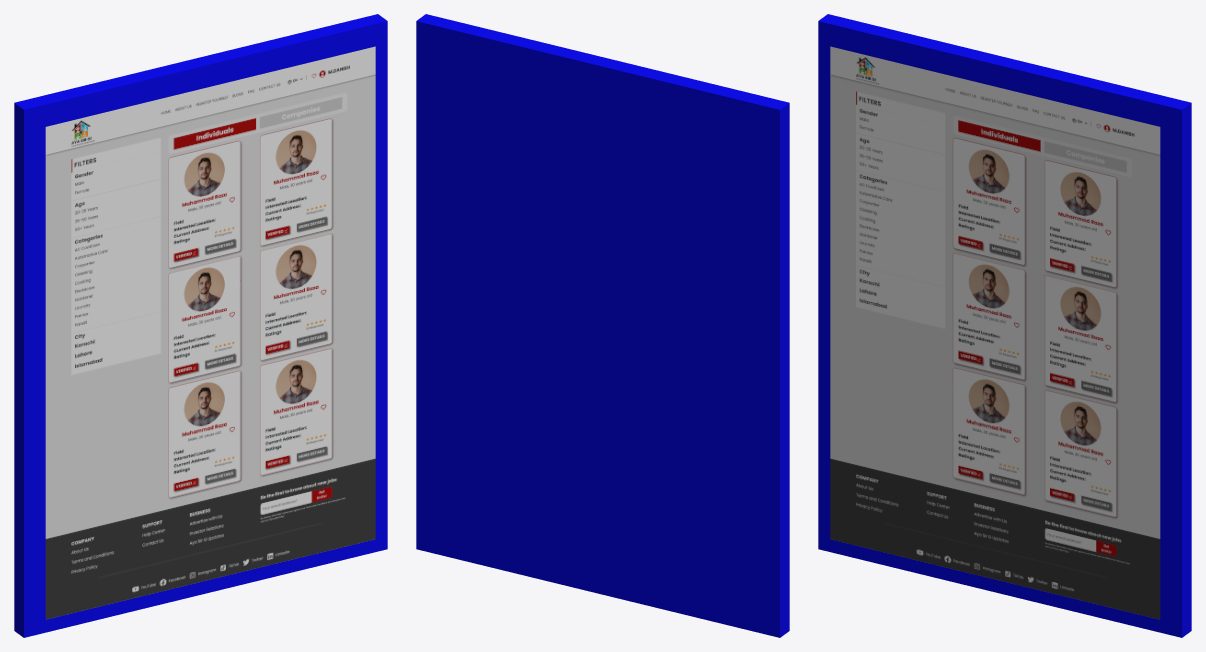
The picture shows the model from 3 angles, left to right: view 1: azimuth 30°, elevation 25°; view 2: azimuth 150°, elevation 25°; view 3: azimuth 330°, elevation 25°; orthographic projection.
Visible parts, largest first — view 1: PhotoPlane, PhotoBorder; view 2: PhotoBorder; view 3: PhotoPlane, PhotoBorder.
Part boxes in pixels (x1,y1,x2,y2): PhotoPlane: (45,46,375,619); PhotoBorder: (14,14,387,637); PhotoBorder: (416,14,789,637); PhotoPlane: (830,46,1160,619); PhotoBorder: (818,14,1191,637).
Size of the model in its own units: 10.81 by 15 by 0.75.
Materials: 2 (1 with a texture image).
